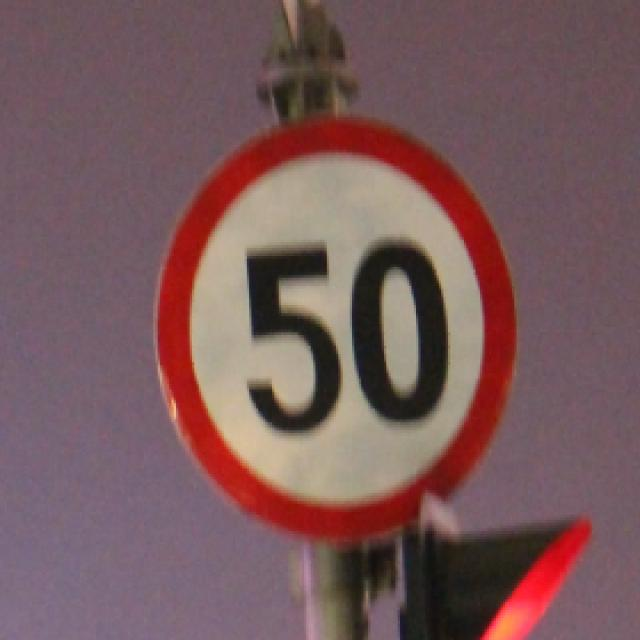Speed: (147, 102, 553, 529)
